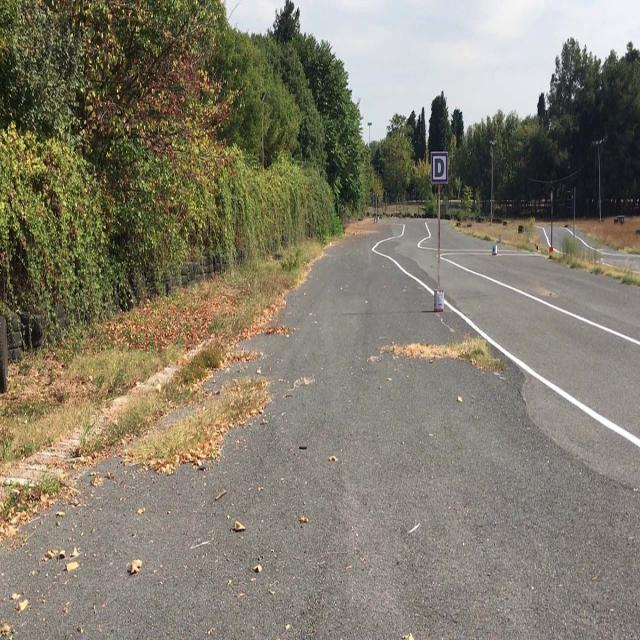durak: (431, 150, 449, 182)
